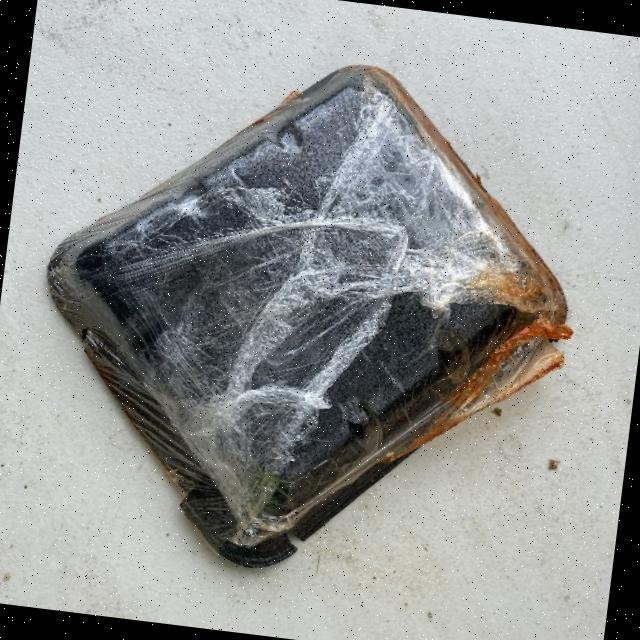styrofoam: (11, 26, 602, 604)
